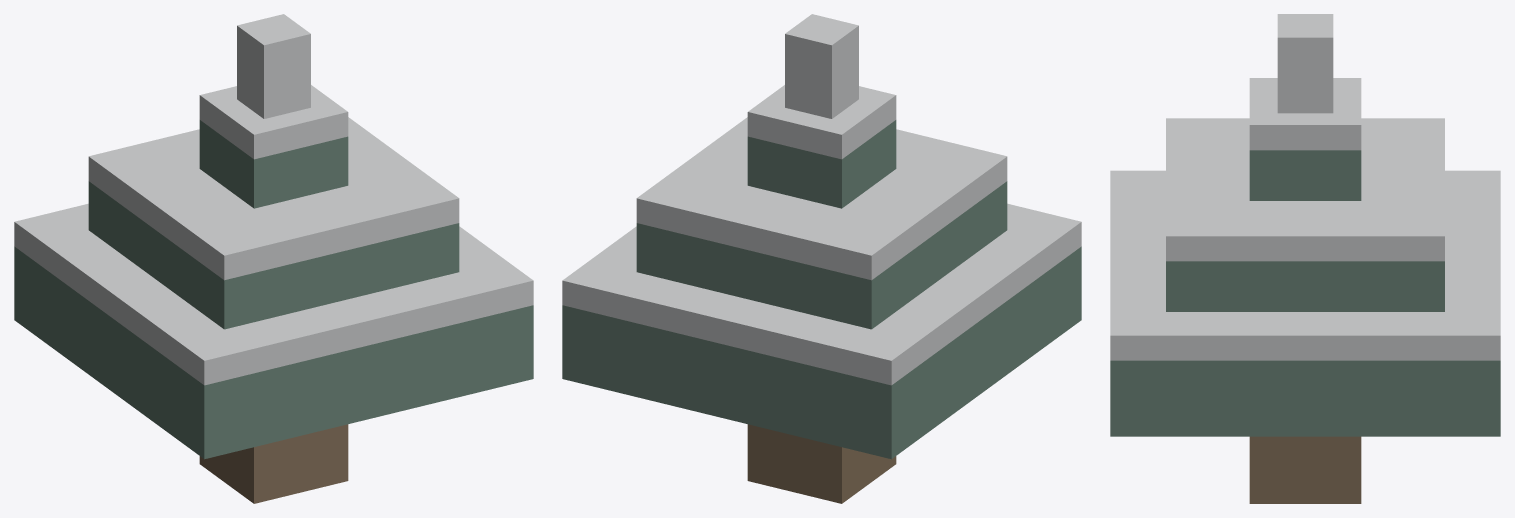
File: pino_nevado_05.glb
The picture shows the model from 3 angles, left to right: view 1: azimuth 30°, elevation 25°; view 2: azimuth 150°, elevation 25°; view 3: azimuth 270°, elevation 25°; orthographic projection. The views are drawn at different scales.
Visible parts, largest first — view 1: pino_nevado_05; view 2: pino_nevado_05; view 3: pino_nevado_05.
Part boxes in pixels (x1=…): pino_nevado_05: x1=14, y1=14, x2=533, y2=503; pino_nevado_05: x1=562, y1=14, x2=1081, y2=503; pino_nevado_05: x1=1110, y1=14, x2=1500, y2=503.
Bounding box in the file's own units: 1.4 × 1.8 × 1.4.
